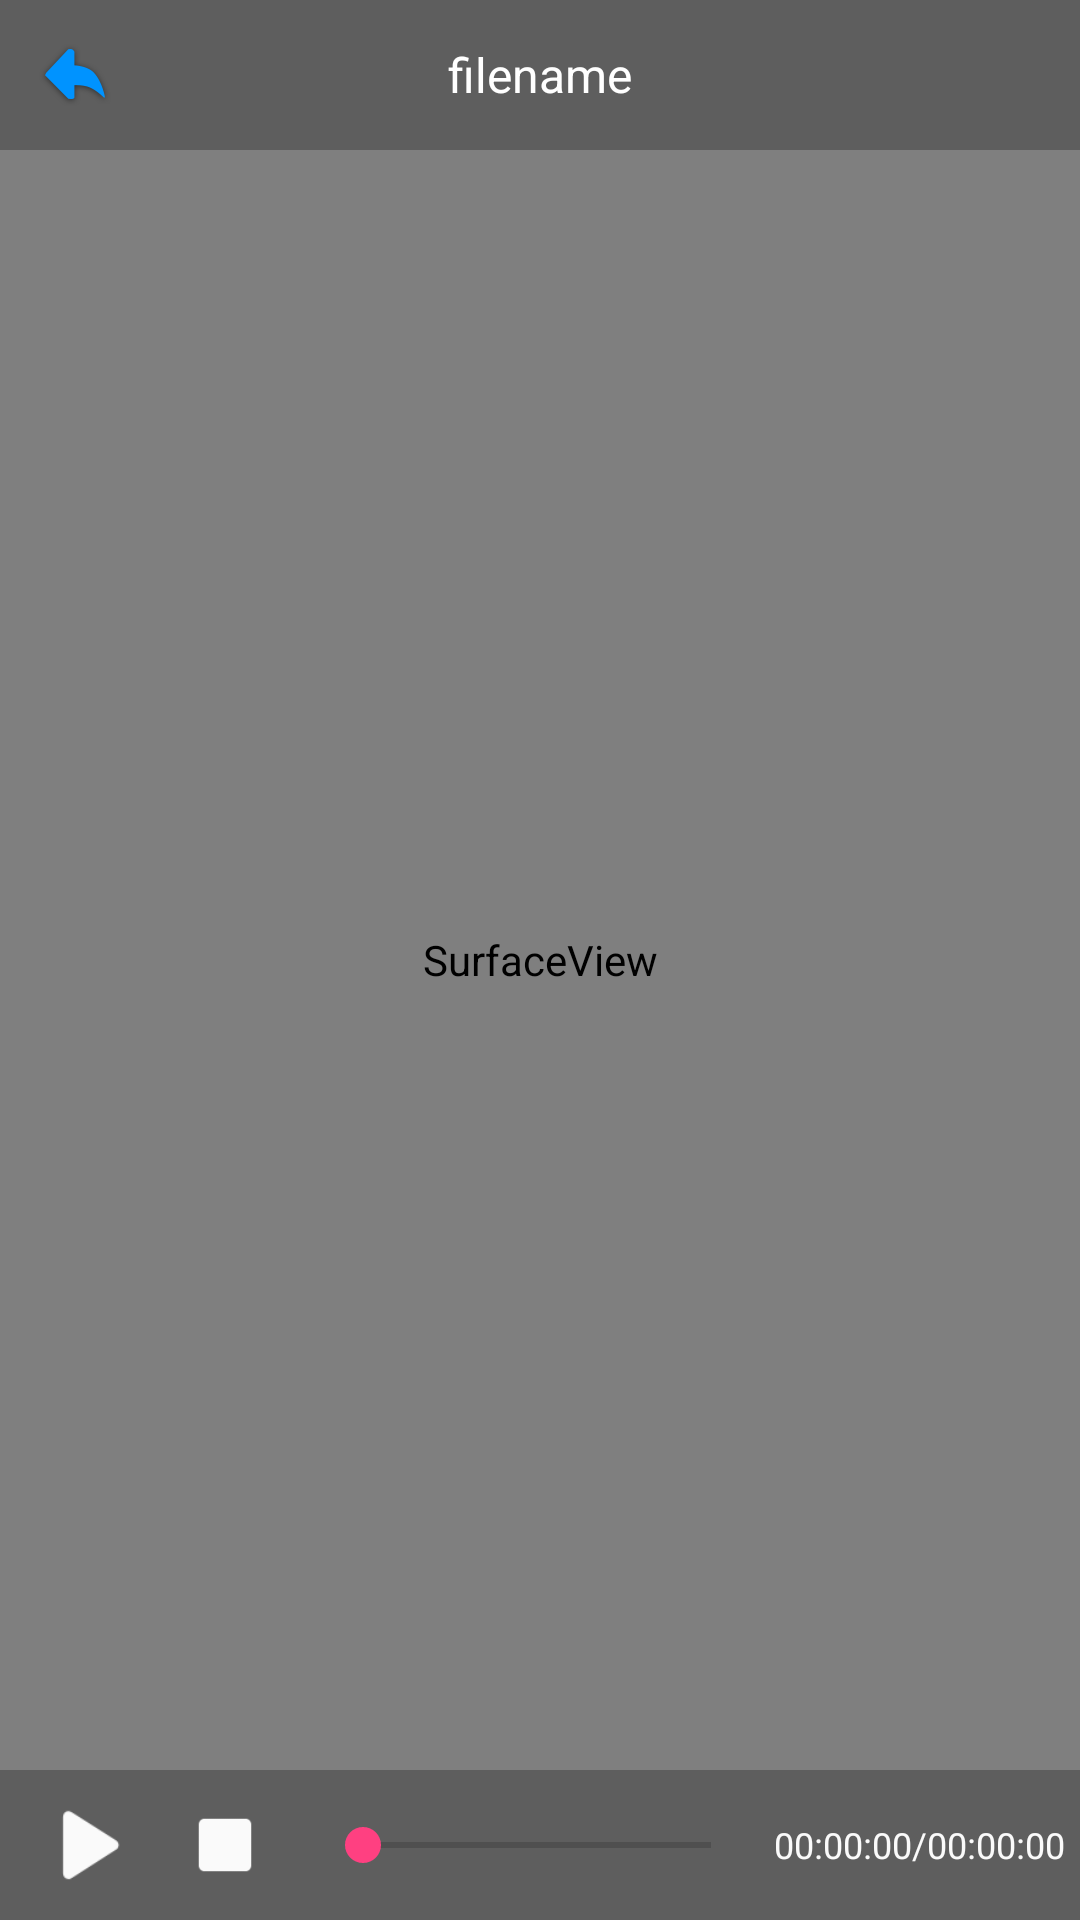

Locate icon controls on the screen. Image size 1080px×1920px, boxes as (x1=x1, y1=y1, x2=x2, y2=y2).
replay play: (x1=63, y1=1811, x2=119, y2=1880)
replay stop: (x1=198, y1=1818, x2=252, y2=1872)
